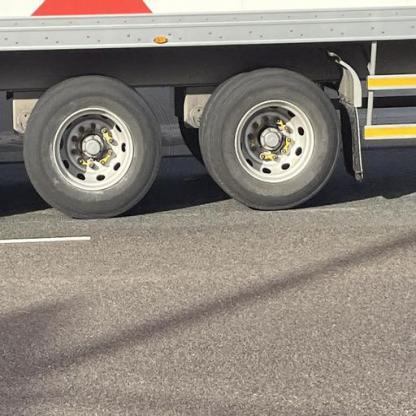Tire: (199, 67, 341, 210), (23, 74, 161, 221)
